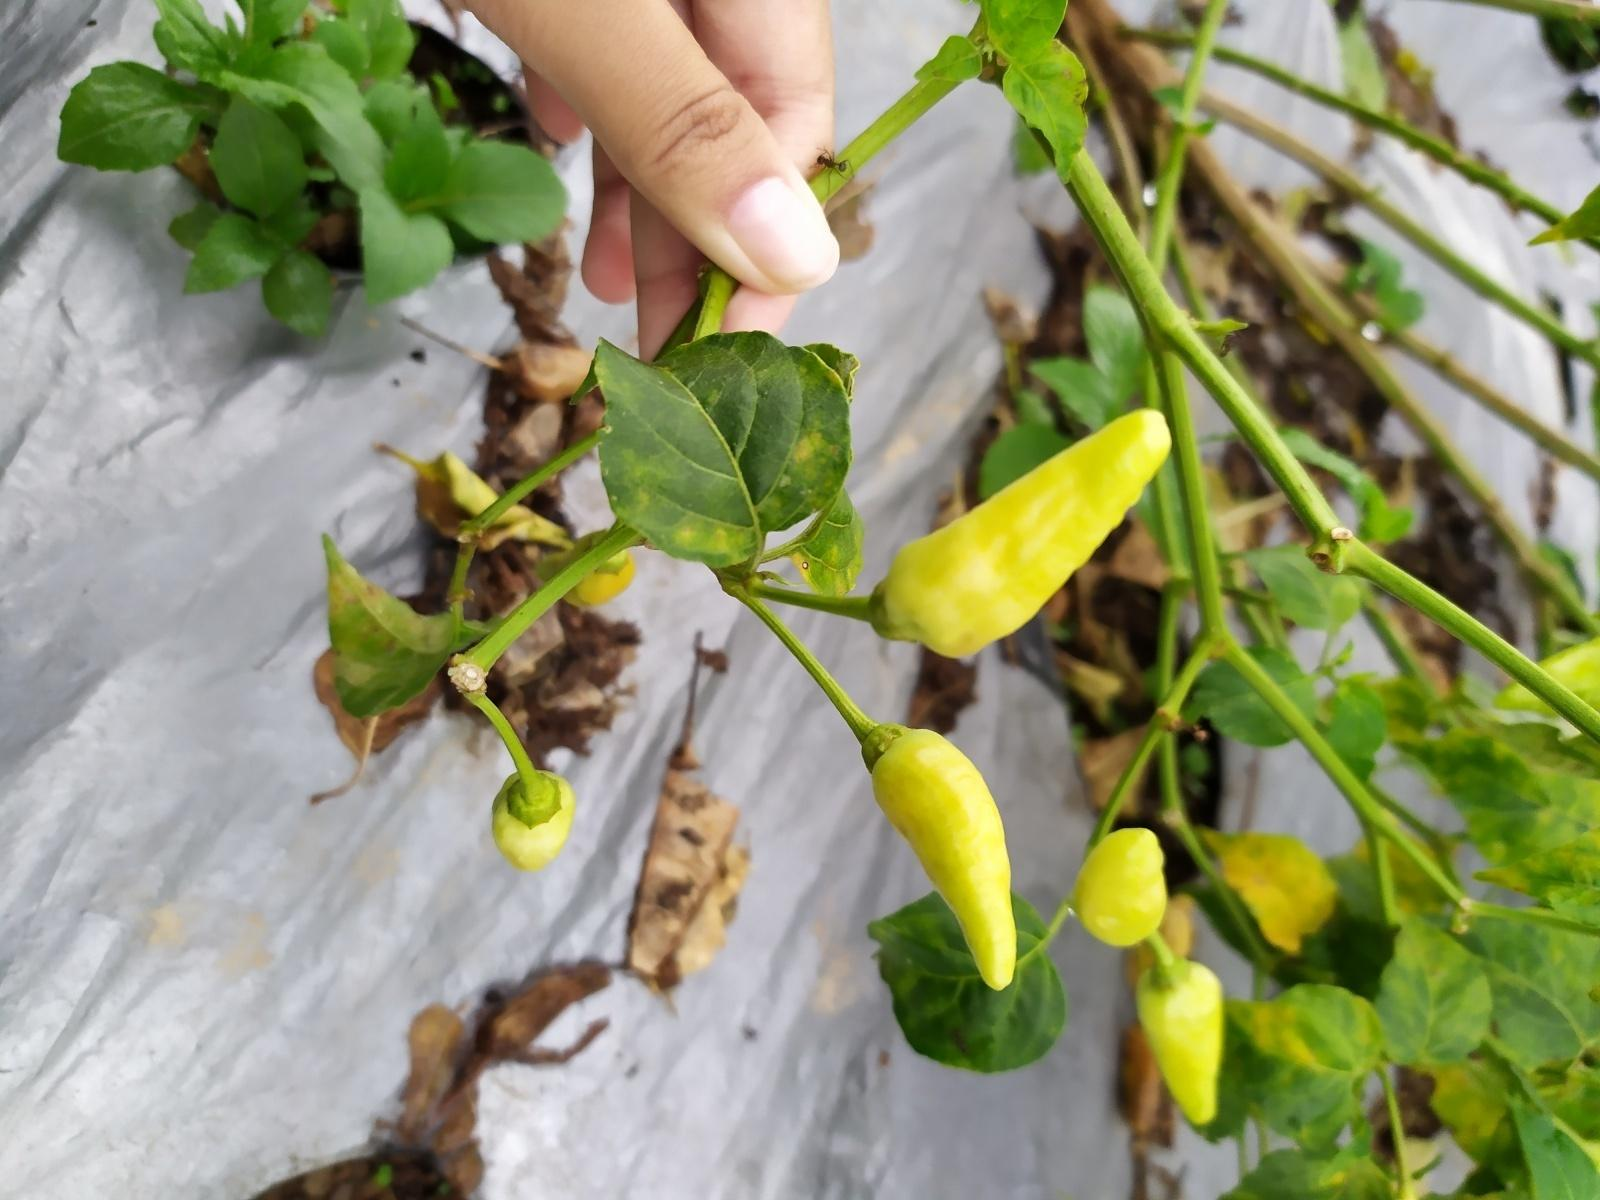cabai_normal: (879, 407, 1173, 657), (871, 727, 1017, 992), (1135, 958, 1226, 1127), (1073, 827, 1169, 947), (490, 769, 574, 874)
